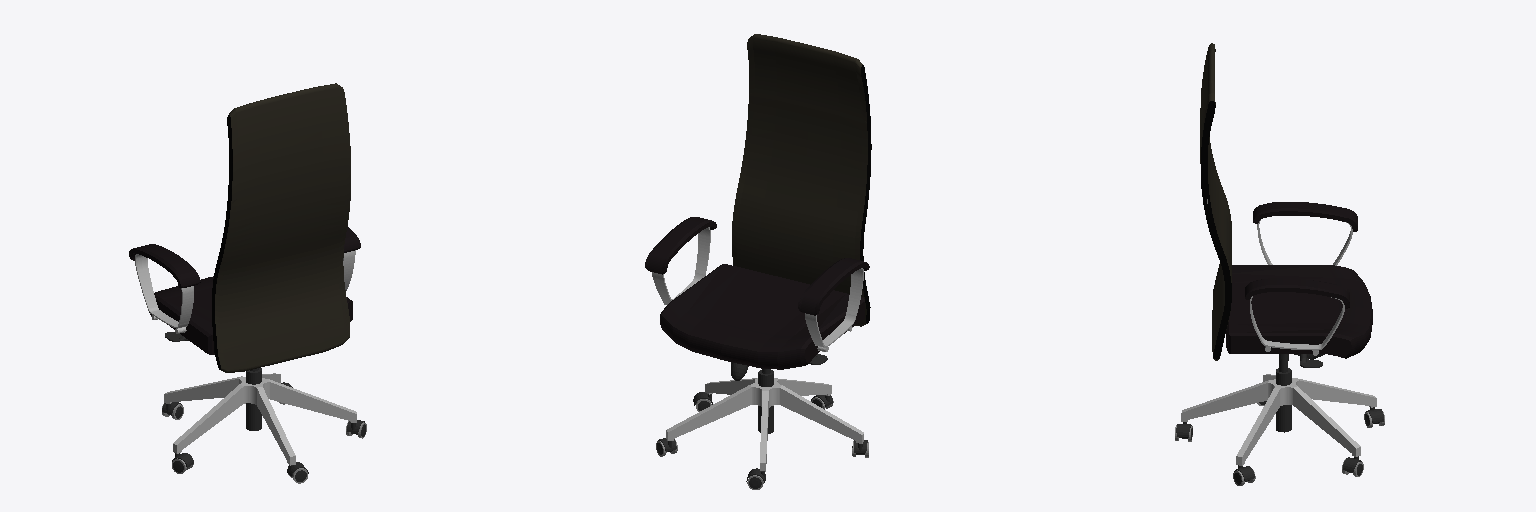
3 views of the same model, side by side, from view 1: azimuth 30°, elevation 25°; view 2: azimuth 150°, elevation 25°; view 3: azimuth 270°, elevation 25° (orthographic).
Parts seen in each view (by area): view 1: Mesh1 Group1 Model, Mesh3 Group3 Model, Mesh6 Group6 Model, Mesh12 Group10 Armrest2 Model, Mesh13 Group11 Armrest2 Model, Mesh2 Group2 Model; view 2: Mesh1 Group1 Model, Mesh6 Group6 Model, Mesh3 Group3 Model, Mesh9 Group9 Armrest1 Model, Mesh13 Group11 Armrest2 Model, Mesh12 Group10 Armrest2 Model, Mesh8 Group8 Armrest1 Model; view 3: Mesh6 Group6 Model, Mesh3 Group3 Model, Mesh1 Group1 Model, Mesh13 Group11 Armrest2 Model, Mesh9 Group9 Armrest1 Model, Mesh2 Group2 Model, Mesh8 Group8 Armrest1 Model.
Part boxes in pixels (x1,y1,x2,y2): Mesh1 Group1 Model: (212, 83, 350, 372); Mesh3 Group3 Model: (164, 373, 356, 465); Mesh6 Group6 Model: (149, 276, 352, 354); Mesh12 Group10 Armrest2 Model: (135, 254, 193, 328); Mesh13 Group11 Armrest2 Model: (129, 244, 200, 287); Mesh2 Group2 Model: (246, 368, 261, 430); Mesh1 Group1 Model: (732, 34, 871, 326); Mesh6 Group6 Model: (660, 264, 864, 369); Mesh3 Group3 Model: (666, 378, 863, 471); Mesh9 Group9 Armrest1 Model: (645, 217, 716, 274); Mesh13 Group11 Armrest2 Model: (798, 258, 869, 315); Mesh12 Group10 Armrest2 Model: (805, 268, 863, 347); Mesh8 Group8 Armrest1 Model: (652, 227, 710, 304); Mesh6 Group6 Model: (1226, 265, 1372, 358); Mesh3 Group3 Model: (1181, 374, 1376, 465); Mesh1 Group1 Model: (1200, 43, 1231, 360); Mesh13 Group11 Armrest2 Model: (1253, 202, 1357, 231); Mesh9 Group9 Armrest1 Model: (1245, 278, 1349, 308); Mesh2 Group2 Model: (1276, 354, 1291, 432); Mesh8 Group8 Armrest1 Model: (1250, 296, 1344, 350).
Size of the model in its own units: 0.4521 by 0.8772 by 0.4458.